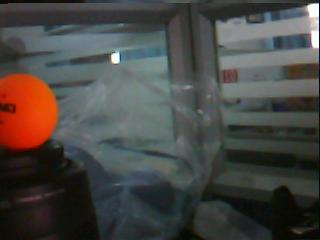oball: (1, 73, 56, 150)
